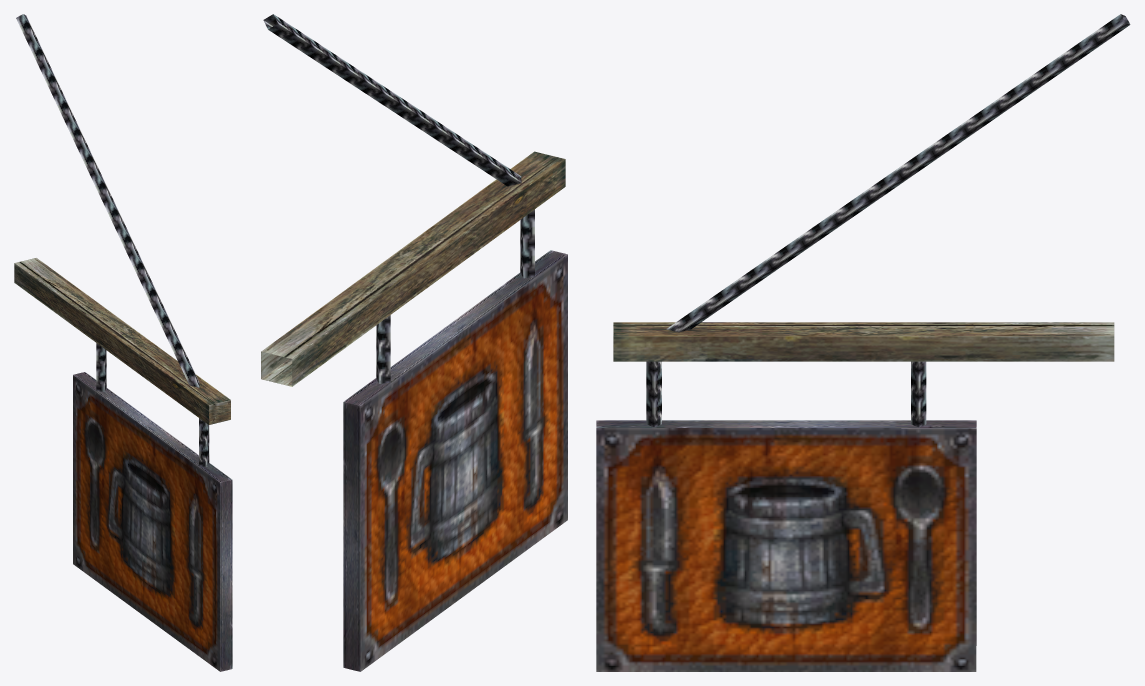
Rendered from tn_hotelsign.glb.
3 views of the same model, side by side, from view 1: azimuth 30°, elevation 25°; view 2: azimuth 150°, elevation 25°; view 3: azimuth 270°, elevation 25° (orthographic). The views are drawn at different scales.
Parts seen in each view (by area): view 1: tn_hotelsign-col; view 2: tn_hotelsign-col; view 3: tn_hotelsign-col.
Part boxes in pixels (<box>): tn_hotelsign-col: <box>14,14,232,671</box>; tn_hotelsign-col: <box>261,14,567,671</box>; tn_hotelsign-col: <box>596,14,1130,671</box>.
Size of the model in its own units: 0.133 by 2.91 by 2.15.
3 materials, 3 textured.
